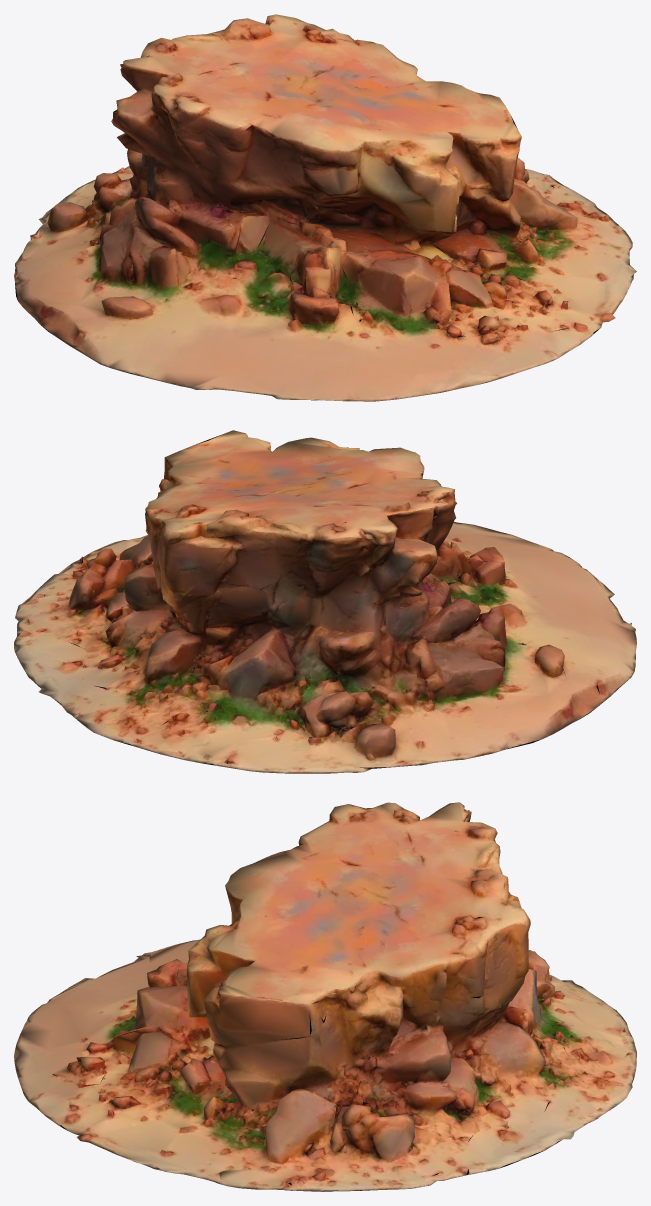
Rendered from pillar_a.glb.
3 renders of one model, top to bottom at view 1: azimuth 30°, elevation 25°; view 2: azimuth 150°, elevation 25°; view 3: azimuth 270°, elevation 25°, orthographic.
Visible parts, largest first — view 1: pillar_a_00; view 2: pillar_a_00; view 3: pillar_a_00.
Boxes of the visible parts, bbox=[...] form: pillar_a_00: bbox=[14, 14, 636, 401]; pillar_a_00: bbox=[14, 430, 636, 773]; pillar_a_00: bbox=[14, 802, 636, 1191].
Size of the model in its own units: 1.9 by 0.6515 by 1.9.
1 material, 1 textured.
